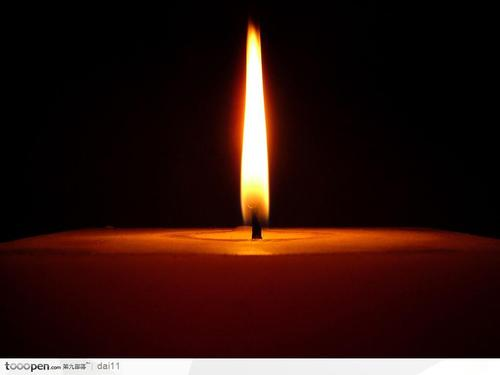fire: (240, 28, 274, 217)
